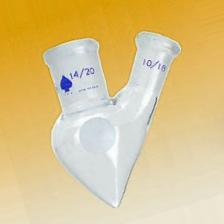Pear shaped flask: (24, 22, 183, 208)
